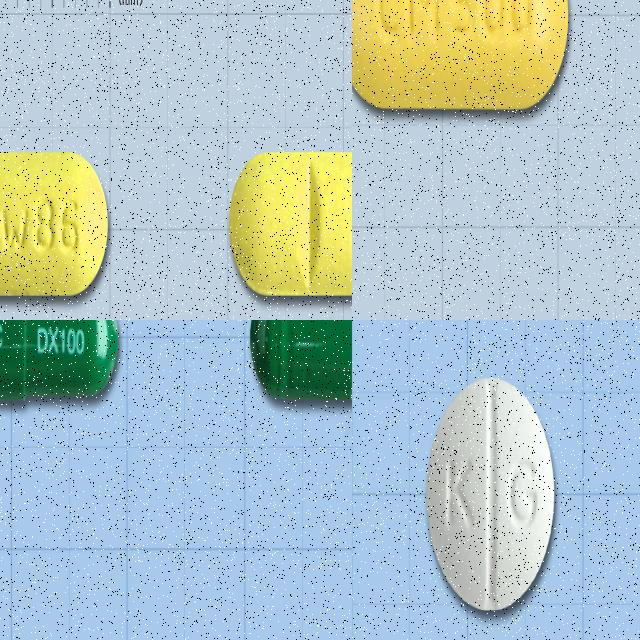Ciprocin - 259mg: (424, 373, 560, 621)
Claricin: (352, 0, 572, 116)
Clarithin: (226, 146, 352, 303), (0, 146, 112, 304)
Doxiramycin Cap: (0, 320, 120, 403), (250, 320, 352, 406)
